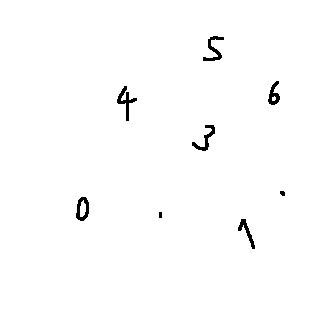.: (271, 187, 292, 200), (155, 208, 167, 221)
0: (72, 188, 96, 234)
1: (229, 213, 270, 258)
3: (187, 116, 226, 163)
4: (116, 78, 138, 126)
5: (199, 34, 231, 66)
6: (256, 71, 290, 113)
